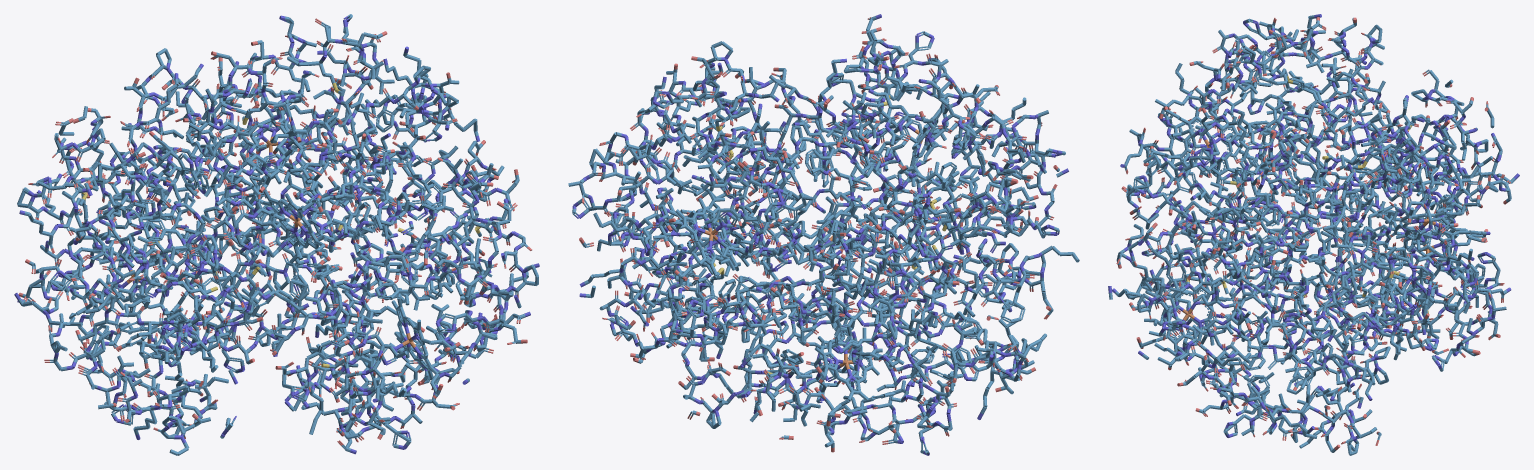
The model's file is 4hhb__sticks__default.glb.
The picture shows the model from 3 angles, left to right: view 1: azimuth 30°, elevation 25°; view 2: azimuth 150°, elevation 25°; view 3: azimuth 270°, elevation 25°; orthographic projection. The views are drawn at different scales.
Parts seen in each view (by area): view 1: Renderer Node; view 2: Renderer Node; view 3: Renderer Node.
Part boxes in pixels (x1,y1,x2,y2): Renderer Node: (14, 14, 539, 455); Renderer Node: (568, 14, 1079, 455); Renderer Node: (1108, 14, 1519, 455).
Size of the model in its own units: 65.72 by 57.28 by 57.7.
